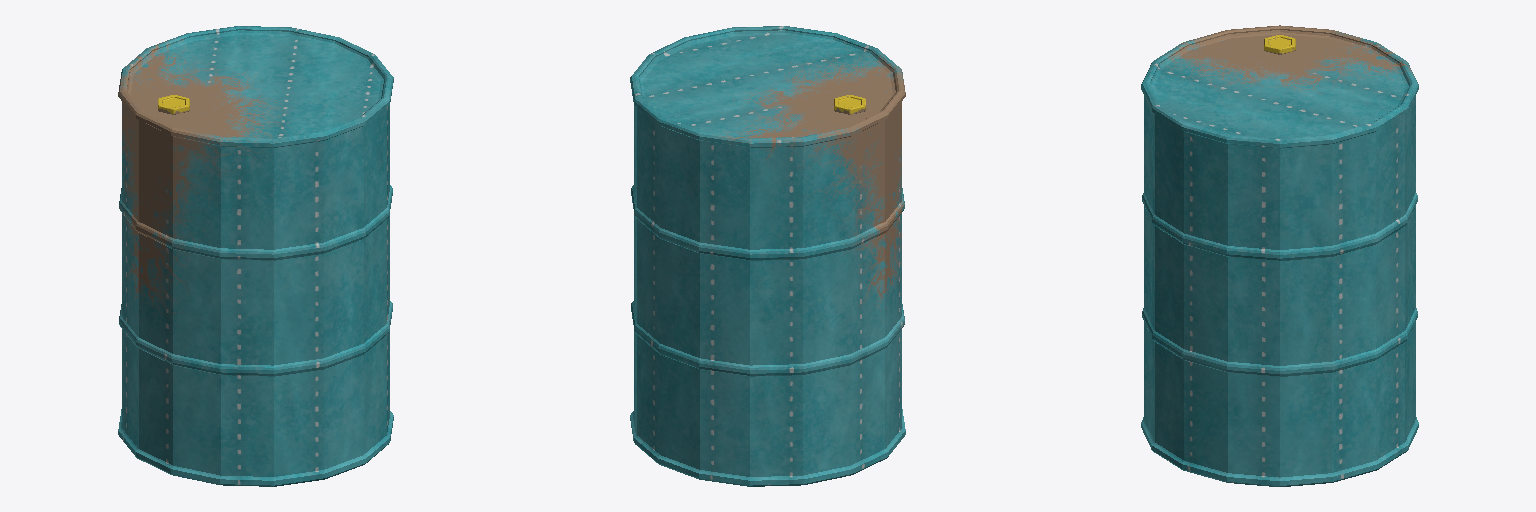
3 renders of one model, left to right at view 1: azimuth 30°, elevation 25°; view 2: azimuth 150°, elevation 25°; view 3: azimuth 270°, elevation 25°, orthographic.
Parts seen in each view (by area): view 1: cylinder_cylinder; view 2: cylinder_cylinder; view 3: cylinder_cylinder.
Part boxes in pixels (x1,y1,x2,y2): cylinder_cylinder: (118,26,393,486); cylinder_cylinder: (630,26,905,486); cylinder_cylinder: (1141,25,1418,486).
Bounding box in the file's own units: 0.6147 × 0.8499 × 0.6147.
1 materials, 1 textured.